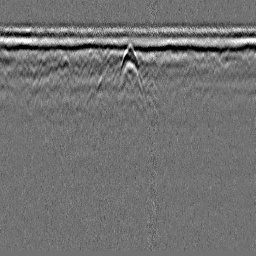cavity: (116, 42, 145, 90)
